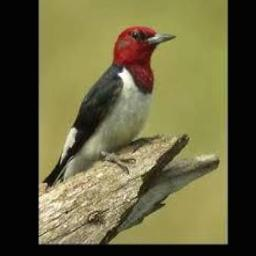Woodpecker: (43, 25, 177, 188)
